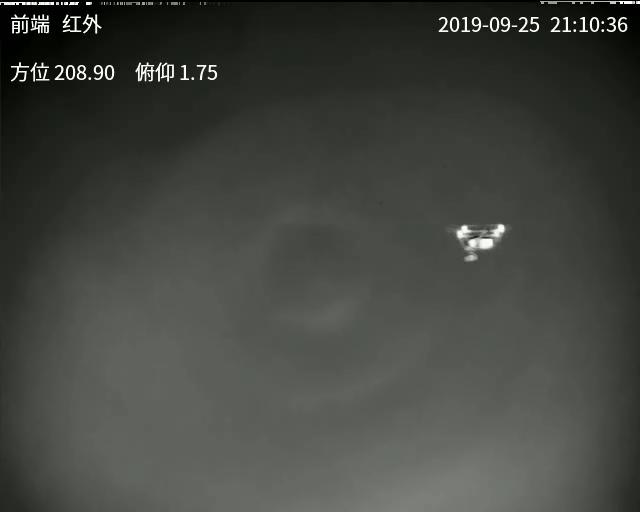uav: (434, 219, 494, 266)
